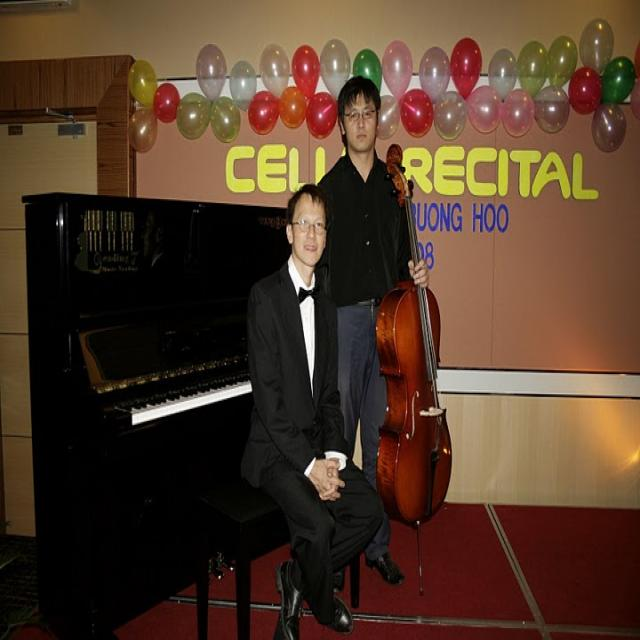cello: (369, 140, 458, 526)
